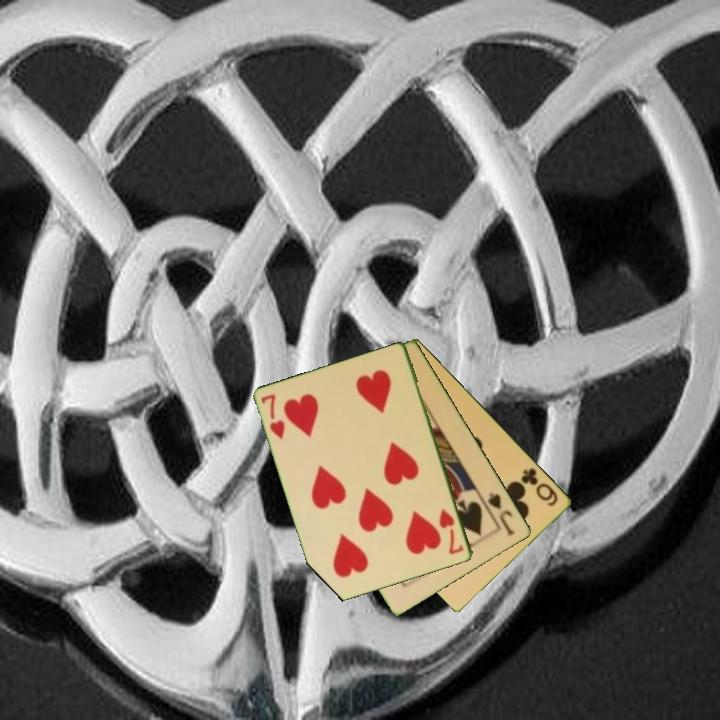6c: (518, 464, 561, 509)
7h: (436, 505, 467, 558), (258, 391, 288, 442)
Js: (485, 489, 518, 539)
